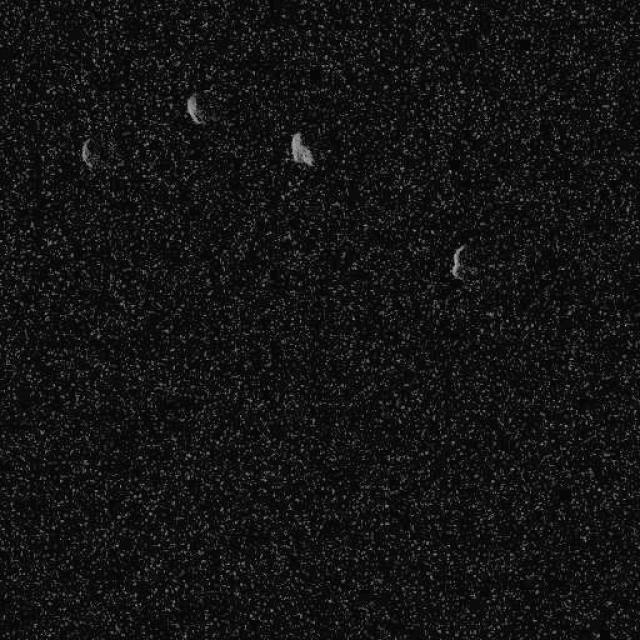D2: (288, 130, 314, 166), (448, 242, 468, 282), (184, 91, 206, 125), (78, 136, 98, 170)
